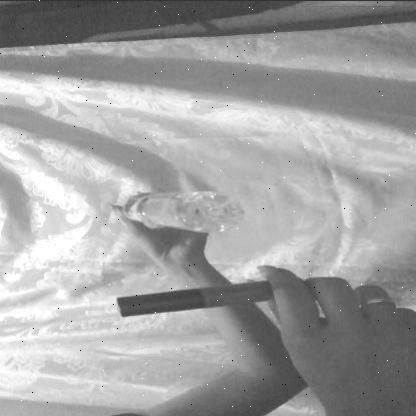Plastic Bottle: (109, 162, 284, 241)
